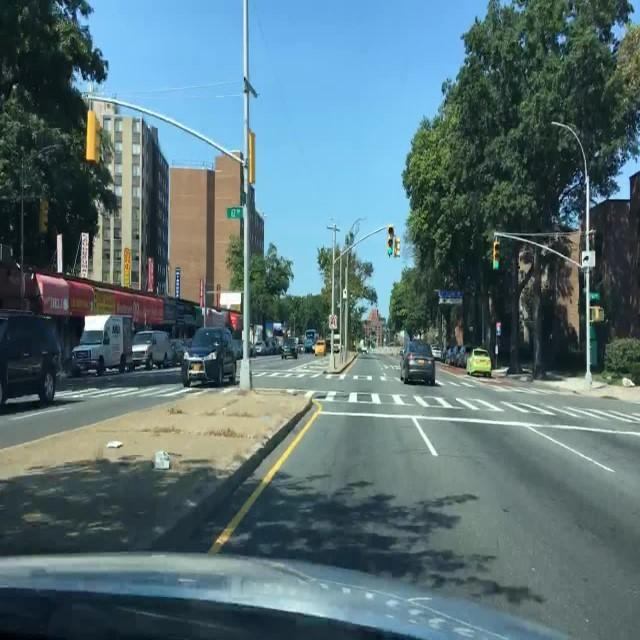normal: (70, 314, 136, 376), (180, 328, 241, 388), (130, 330, 174, 370), (401, 343, 437, 385), (430, 347, 443, 360)
